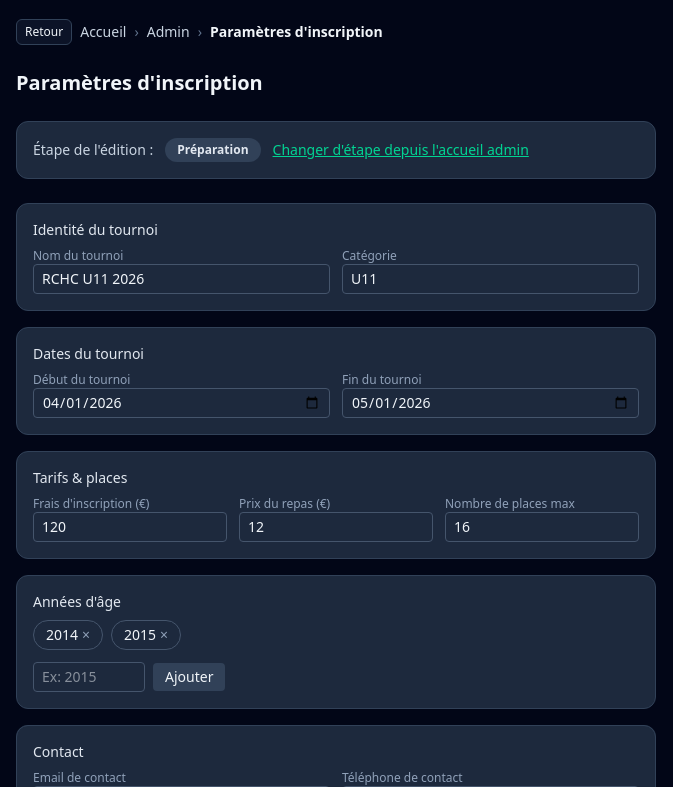
it: ParametresInscriptionPage › bloque l'enregistrement et affiche un message explicite quand la catégorie est vide, sans appel réseau
Clear the field labelled "Catégorie" at (490, 279), box [342,264,639,294]
(page scrolled)
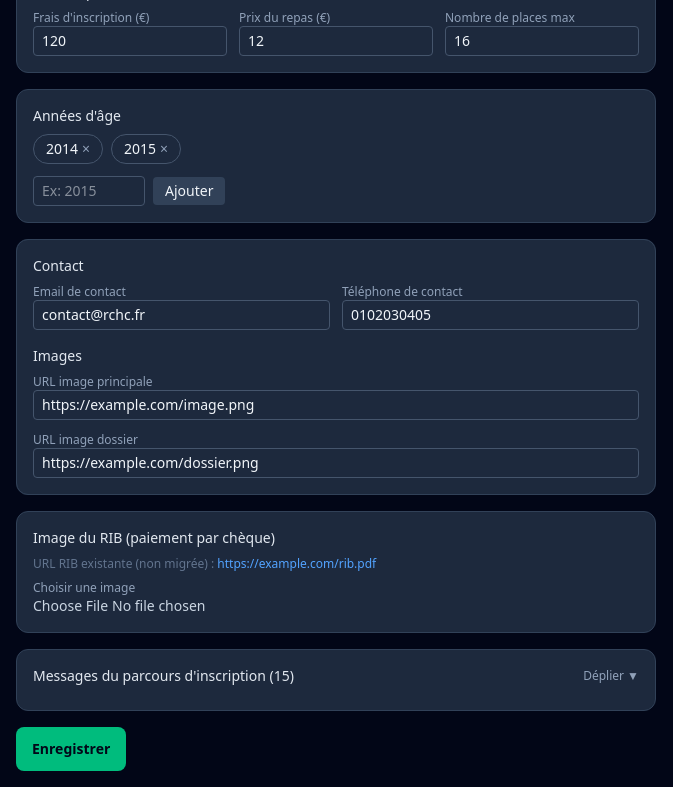
Click the button "Enregistrer" at (71, 749), box [16,727,126,771]
(page scrolled)
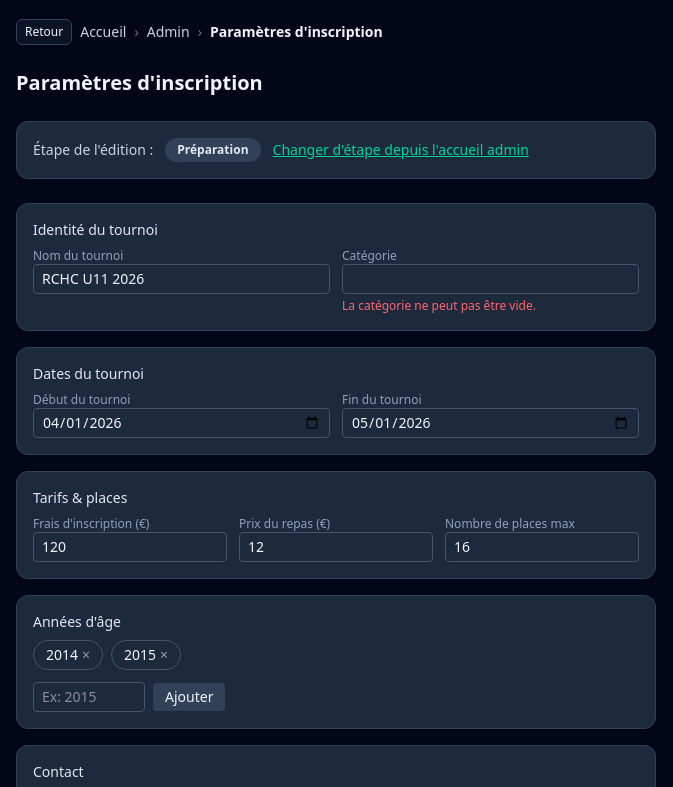
Expected: the text "La catégorie ne peut pas être vide." is shown, [342,297,536,314]
